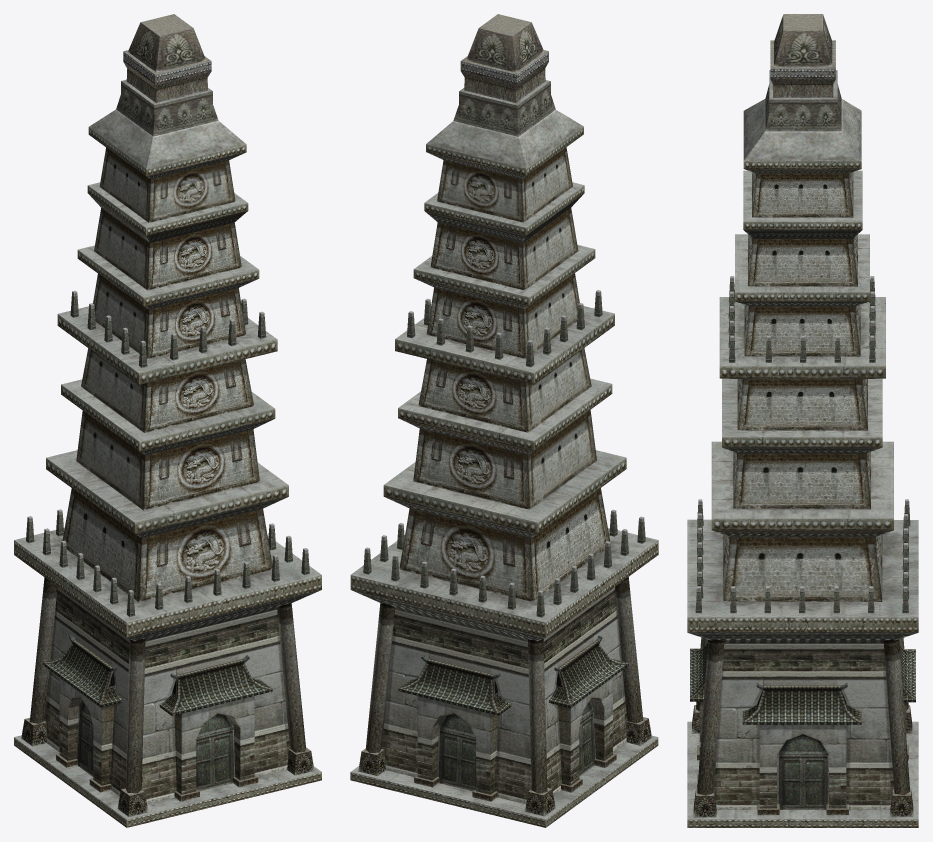
Rendered from a1-031-tower.fbx.
3 views of the same model, side by side, from view 1: azimuth 30°, elevation 25°; view 2: azimuth 150°, elevation 25°; view 3: azimuth 270°, elevation 25° (orthographic). The views are drawn at different scales.
Visible parts, largest first — view 1: tower16; view 2: tower16; view 3: tower16.
Part boxes in pixels (x1=…): tower16: x1=14, y1=14, x2=321, y2=827; tower16: x1=350, y1=14, x2=658, y2=827; tower16: x1=687, y1=14, x2=918, y2=827.
Bounding box in the file's own units: 9.27 × 33.49 × 9.27.
